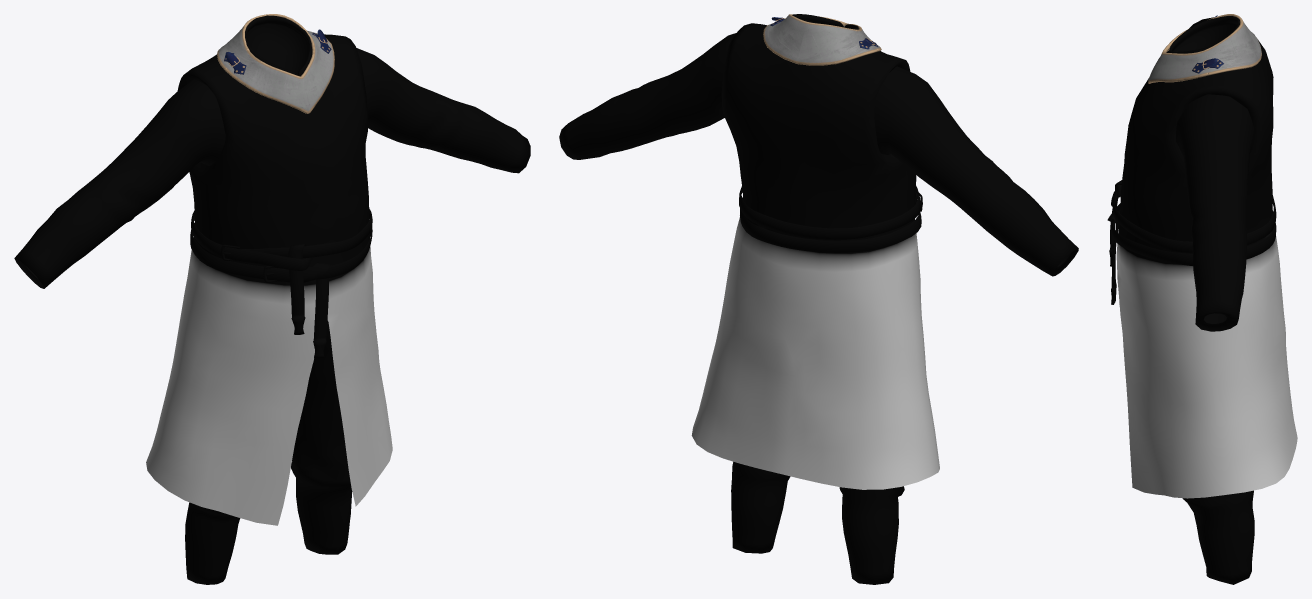
Rendered from swan_knight_armor_tabard2_t1.fbx.
The picture shows the model from 3 angles, left to right: view 1: azimuth 30°, elevation 25°; view 2: azimuth 150°, elevation 25°; view 3: azimuth 270°, elevation 25°; orthographic projection. The views are drawn at different scales.
Visible parts, largest first — view 1: swan_knight_armor_tabard2_t1.0, swan_knight_armor_tabard2_t1.1; view 2: swan_knight_armor_tabard2_t1.0, swan_knight_armor_tabard2_t1.1; view 3: swan_knight_armor_tabard2_t1.0, swan_knight_armor_tabard2_t1.1.
Part boxes in pixels (left/top/right/bottom): swan_knight_armor_tabard2_t1.0: left=14, top=15, right=530, bottom=584; swan_knight_armor_tabard2_t1.1: left=217, top=14, right=334, bottom=113; swan_knight_armor_tabard2_t1.0: left=559, top=14, right=1078, bottom=584; swan_knight_armor_tabard2_t1.1: left=763, top=14, right=881, bottom=65; swan_knight_armor_tabard2_t1.0: left=1107, top=16, right=1297, bottom=584; swan_knight_armor_tabard2_t1.1: left=1148, top=14, right=1261, bottom=83.
Bounding box in the file's own units: 1.34 × 0.4478 × 1.37.
